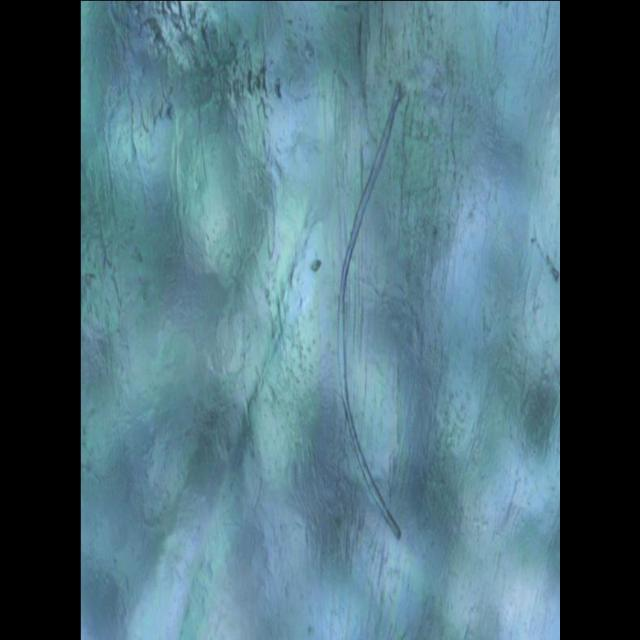Fibre: (336, 77, 406, 539)
